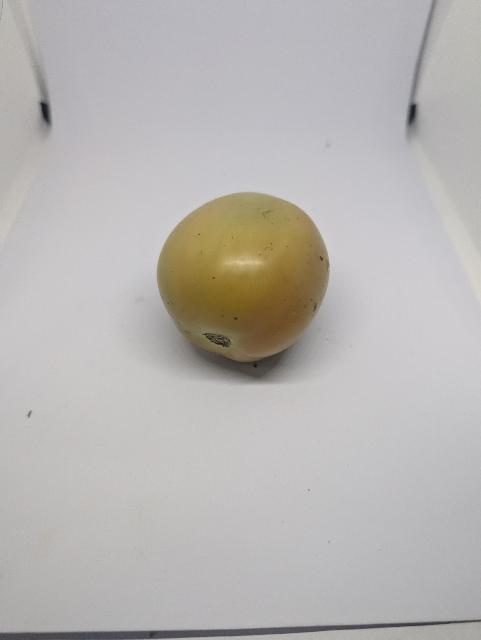breaker: (149, 184, 343, 376)
